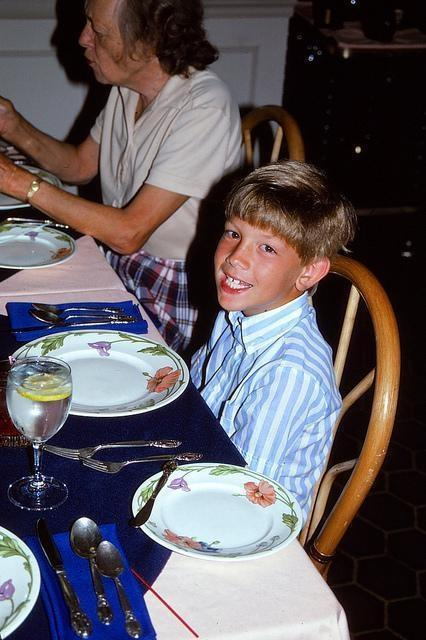glass-wine: (5, 355, 73, 515)
